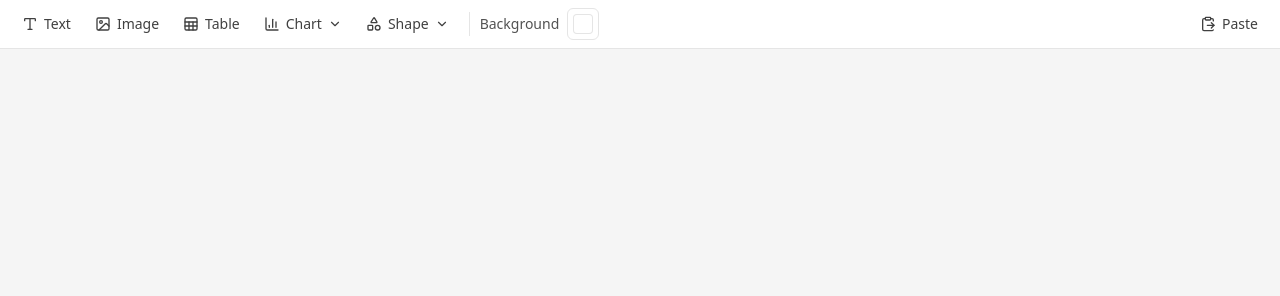
Test: Toolbar insert tools › offers all six chart kinds
Click the button with aria-label "Insert chart" at (303, 24), box [254,8,352,40]
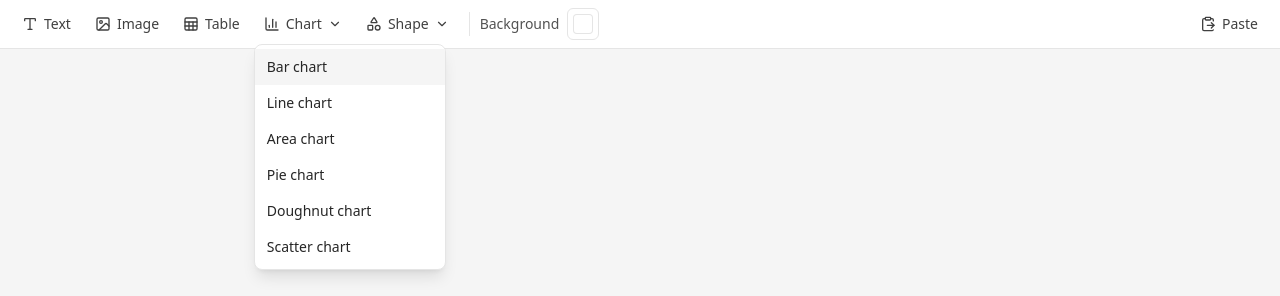
Result: the menu items read "Bar chart", "Line chart", "Area chart", "Pie chart", "Doughnut chart", "Scatter chart", in this order at [255,49,445,85]; [255,85,445,121]; [255,121,445,157]; [255,157,445,193]; [255,193,445,229]; [255,229,445,265]
